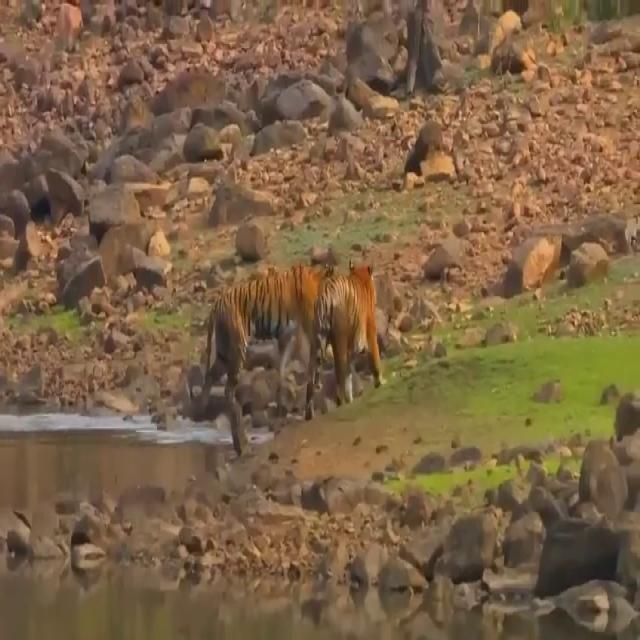tiger: (201, 264, 346, 455), (305, 260, 383, 432)
